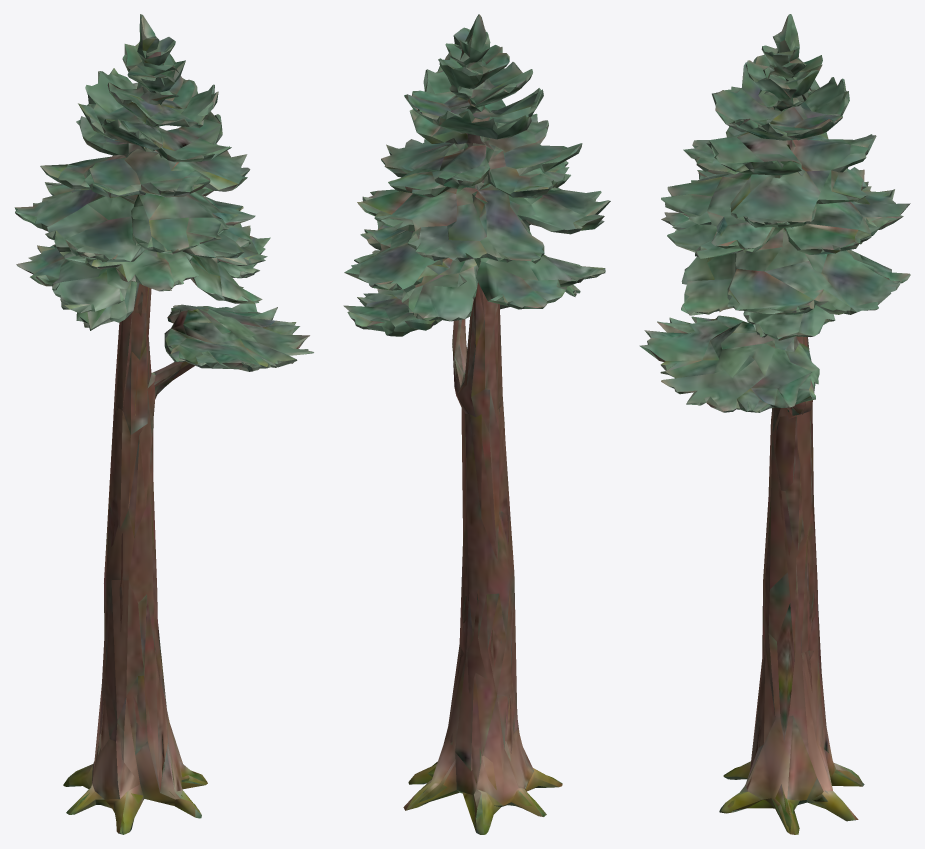
File: Pine.lod1.glb
3 views of the same model, side by side, from view 1: azimuth 30°, elevation 25°; view 2: azimuth 150°, elevation 25°; view 3: azimuth 270°, elevation 25° (orthographic).
Size of the model in its own units: 2.6 by 8 by 2.5.
Materials: 1 (1 with a texture image).
